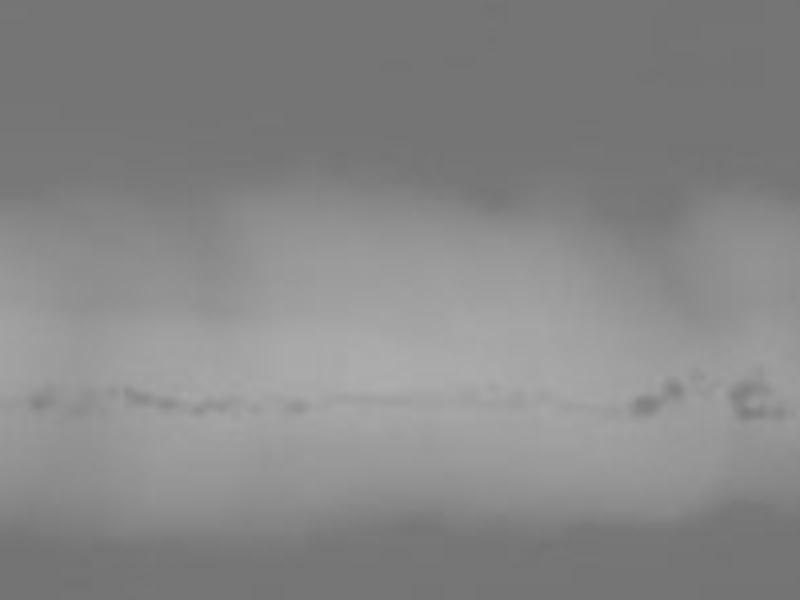defect: (733, 379, 778, 420), (127, 385, 180, 417), (629, 394, 661, 423), (202, 394, 234, 417), (29, 391, 54, 414), (101, 378, 120, 404), (282, 397, 304, 417), (663, 378, 683, 399)
